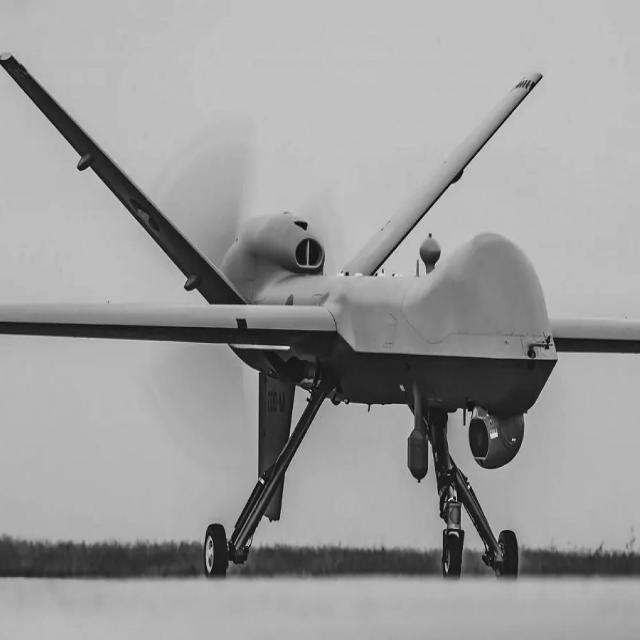MQ9: (0, 43, 640, 640)
